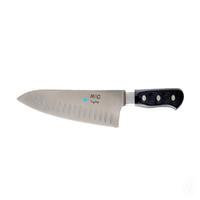knife: (10, 82, 194, 126)
